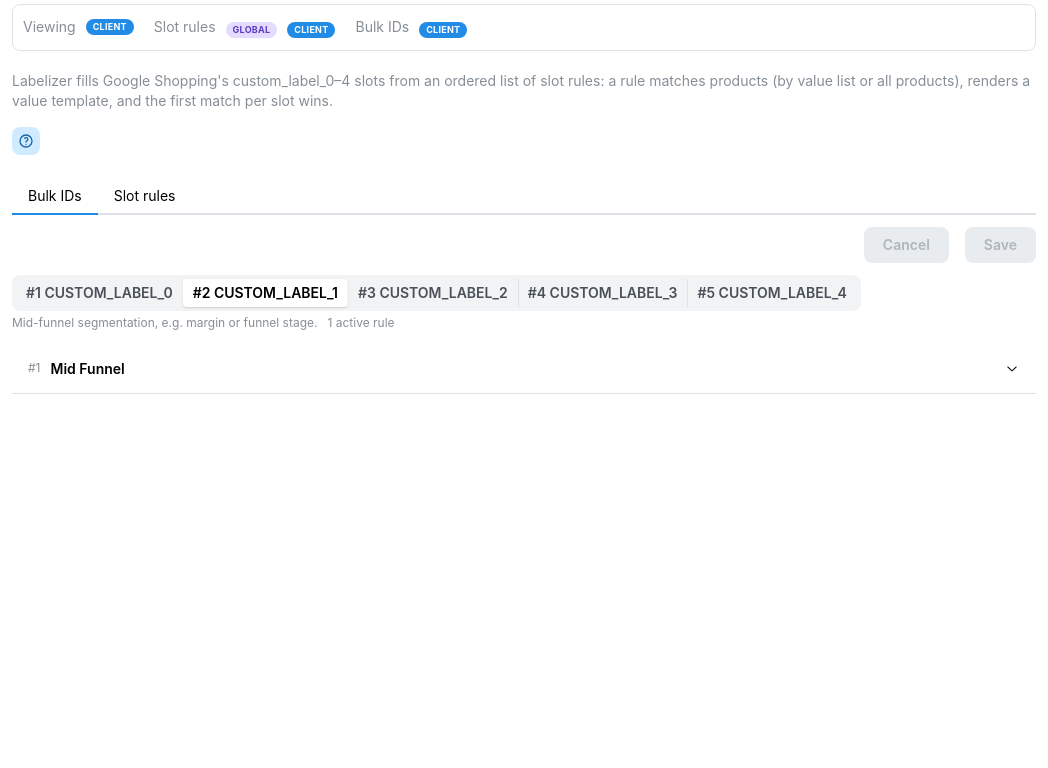
it: CustomLabelsUI operational page › at client tier shows global rules with a Global badge and keeps them read-only
Expected: the text "Mid Funnel" is shown, [50, 360, 125, 377]
Click the tab "Slot rules" at (145, 197), box [98, 179, 192, 215]
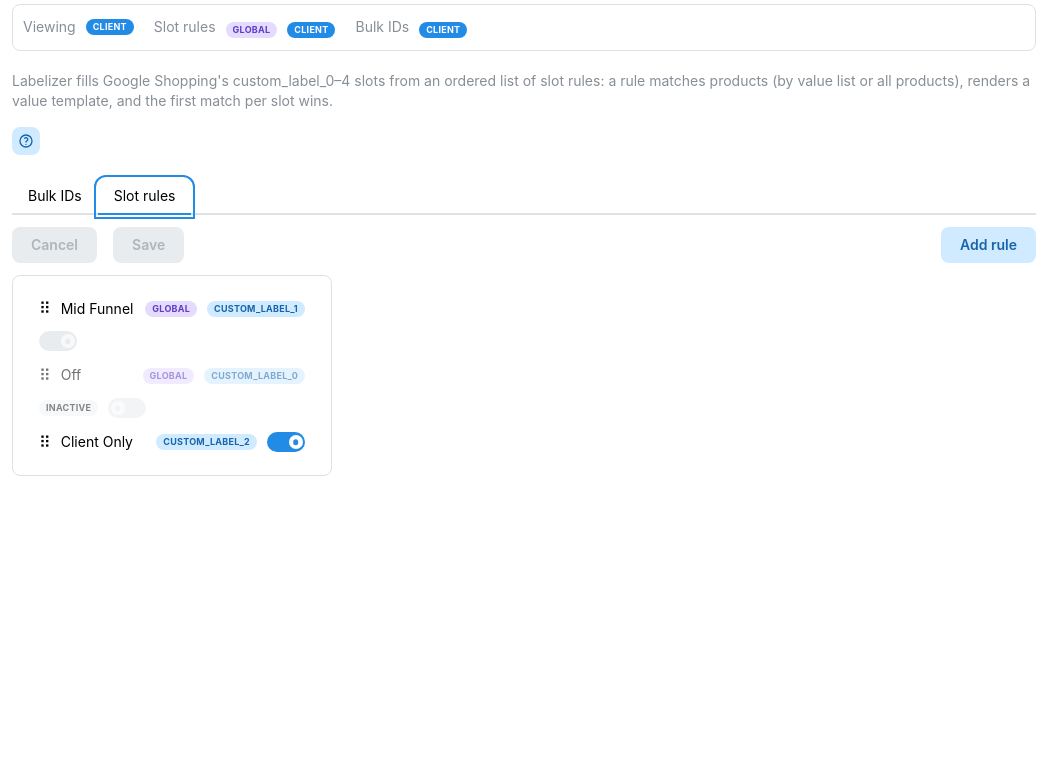
Now the element with test id "scope-badge-global" next to "Mid Funnel" is shown, box [145, 301, 197, 317]
Now the element with test id "scope-badge-global" next to "Off" is shown, box [143, 368, 194, 384]
Click the text "Mid Funnel" at (98, 309), box [61, 299, 135, 319]
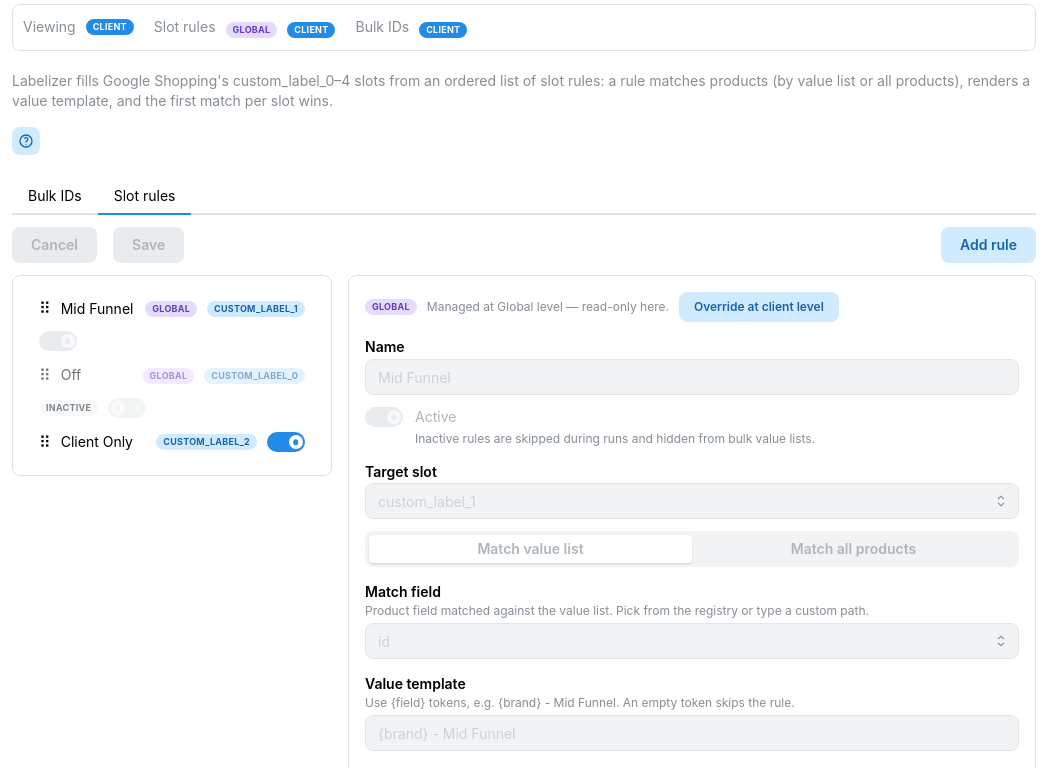
Now the field labelled "Name" is disabled, box [365, 359, 1019, 395]
# Client rule stays editable.
Click the text "Client Only" at (97, 442), box [61, 433, 133, 450]
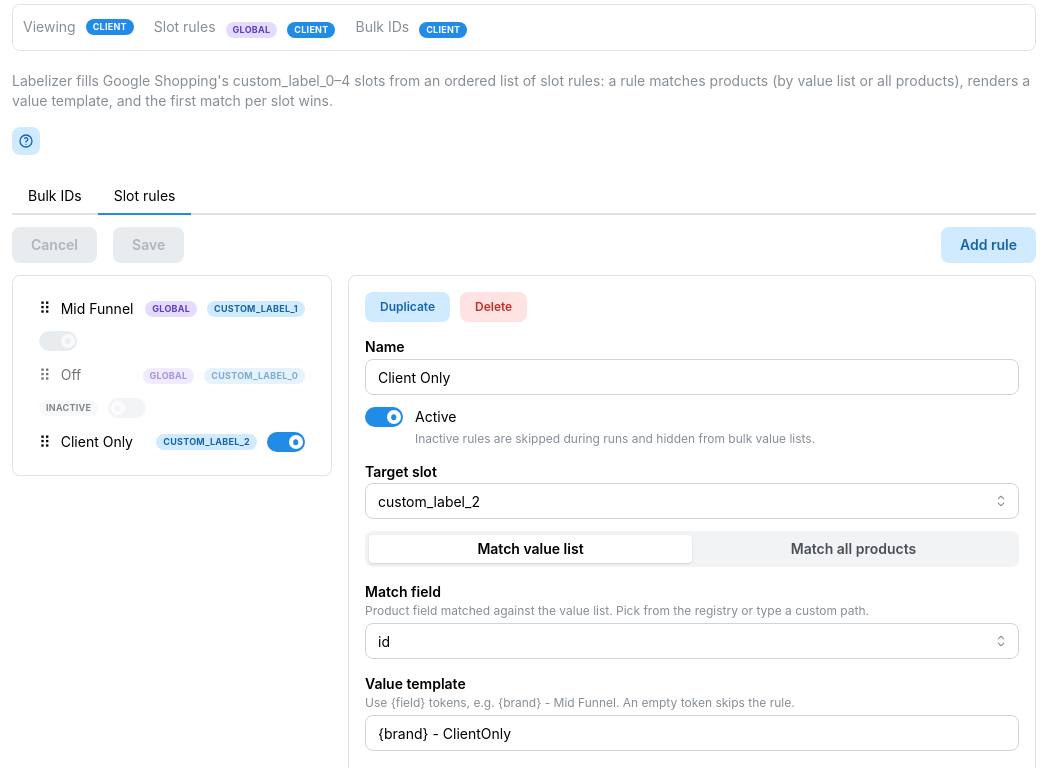
Now the field labelled "Name" is enabled, box [365, 359, 1019, 395]
